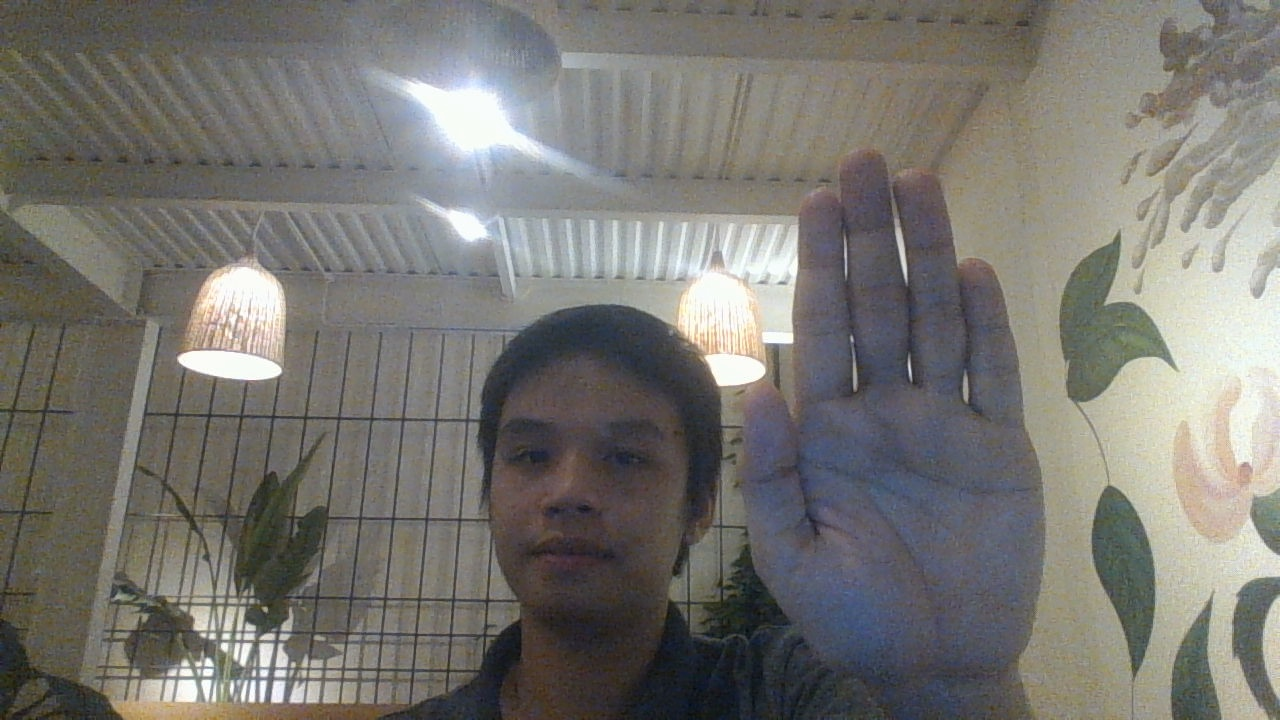check: (732, 142, 1050, 679)
